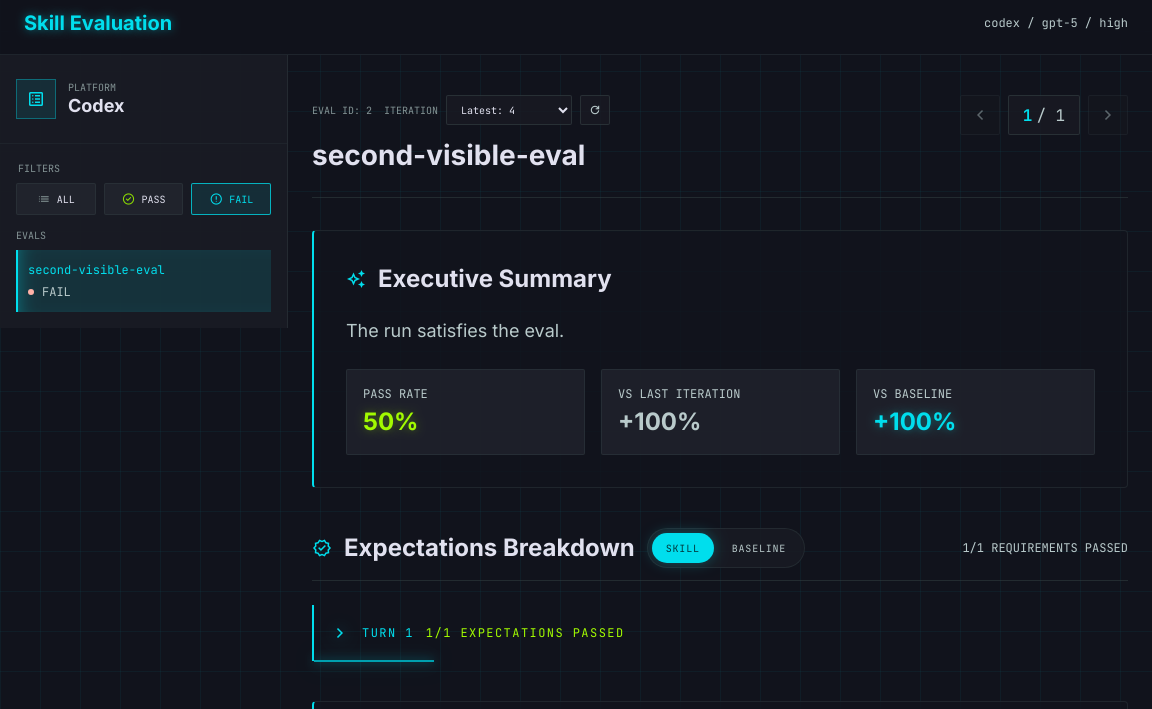
Test: moves to the previous visible eval after saving current feedback
Click the button "all". click: [56, 199]
box: top-left (16, 183), bottom-right (96, 215)
(page scrolled)
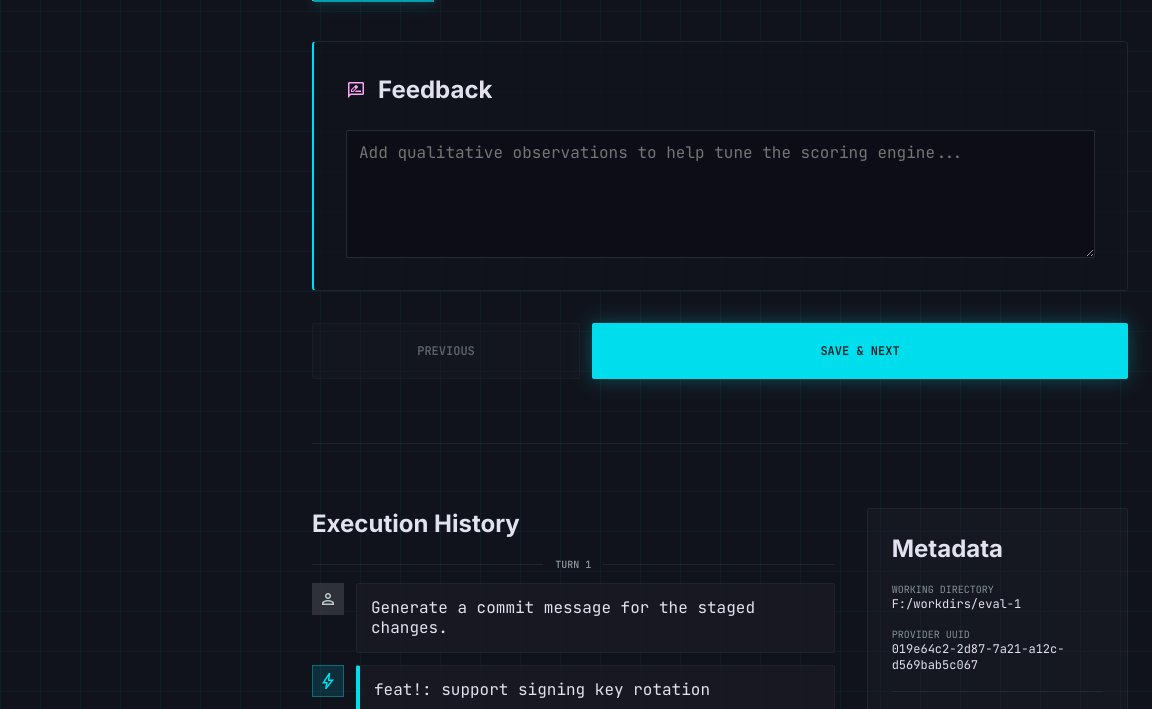
Click the button "Save & Next". click: [860, 351]
box: top-left (592, 323), bottom-right (1128, 379)
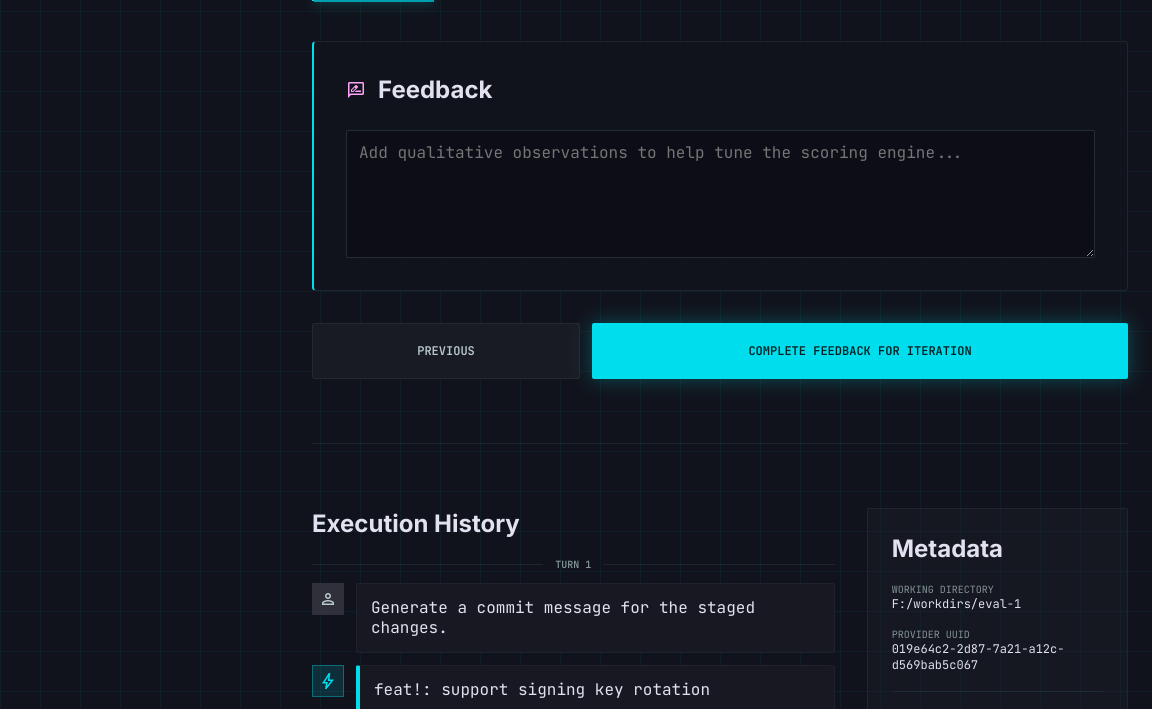
Replace the text in the text box named "Review comments" with "Back-check this eval.". click: [720, 194]
box: top-left (346, 130), bottom-right (1095, 258)
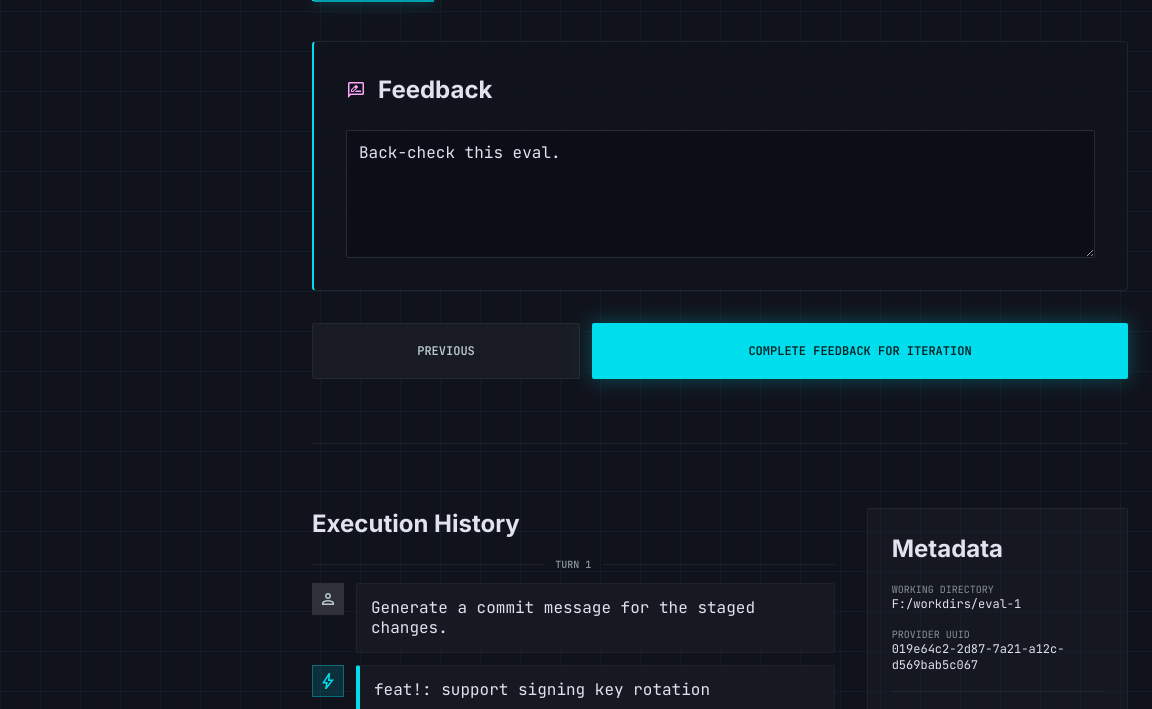
Click the button "Previous". click: [446, 351]
box: top-left (312, 323), bottom-right (580, 379)
(page scrolled)
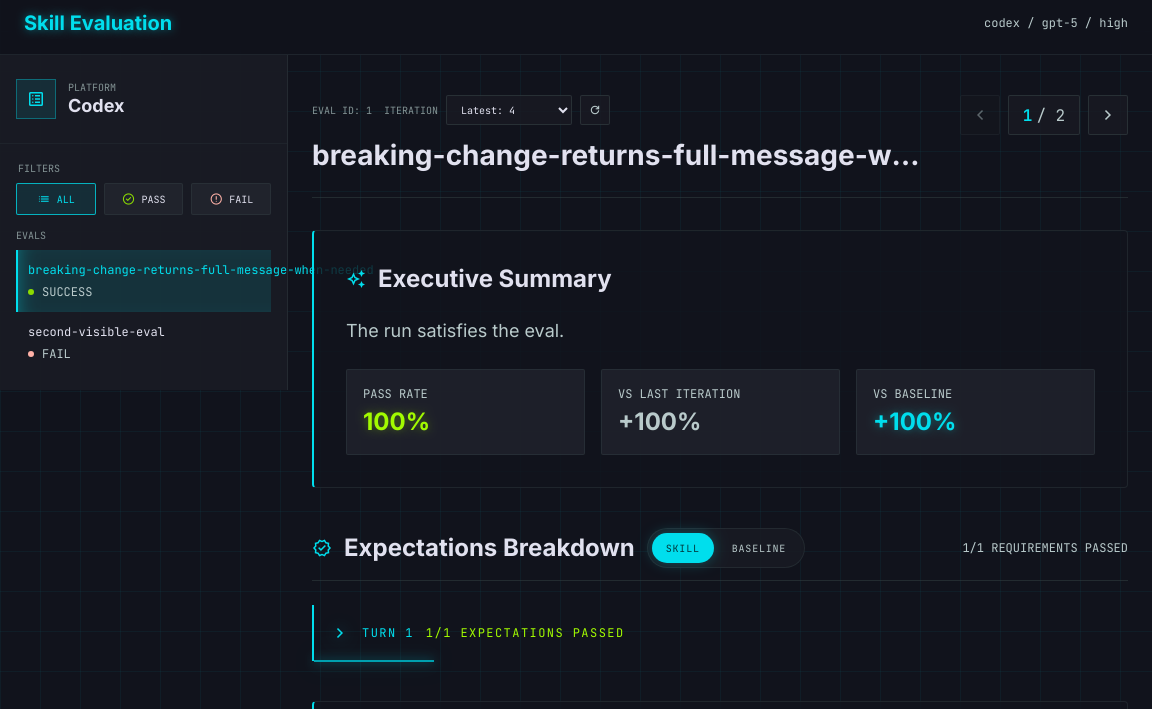
Now the heading "breaking-change-returns-full-message-when-needed" is shown, box top-left (312, 137), bottom-right (936, 173)
